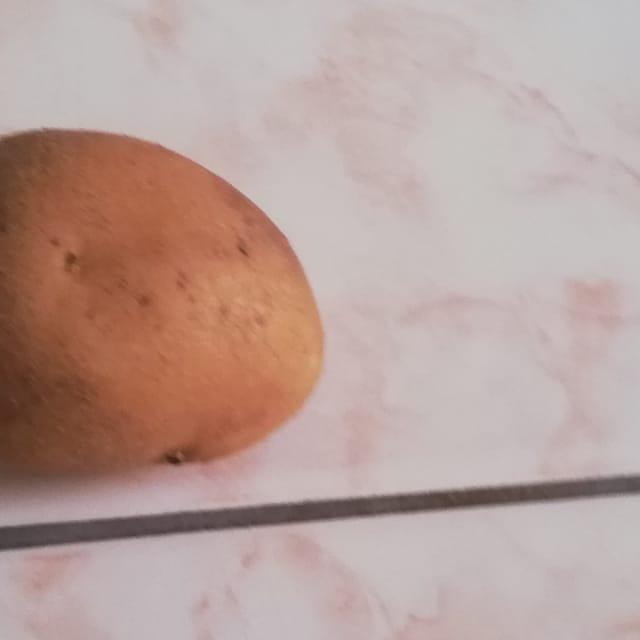potato: (0, 112, 335, 492)
